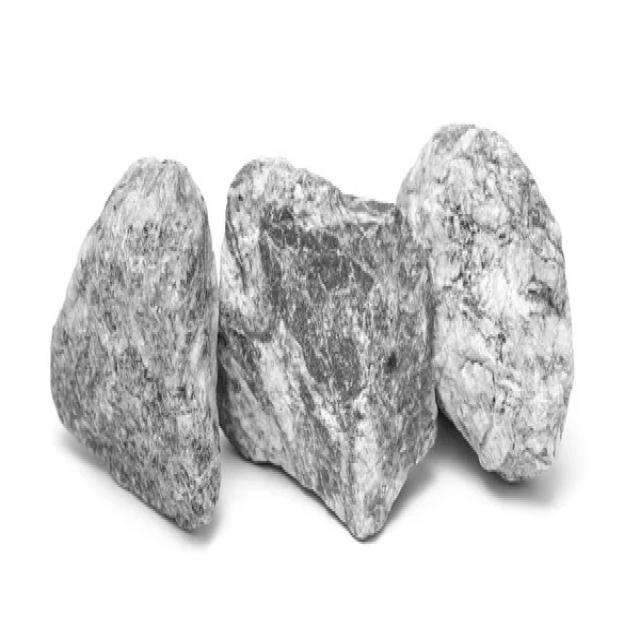Stone: (220, 157, 437, 538), (51, 157, 221, 530), (398, 124, 575, 480)
